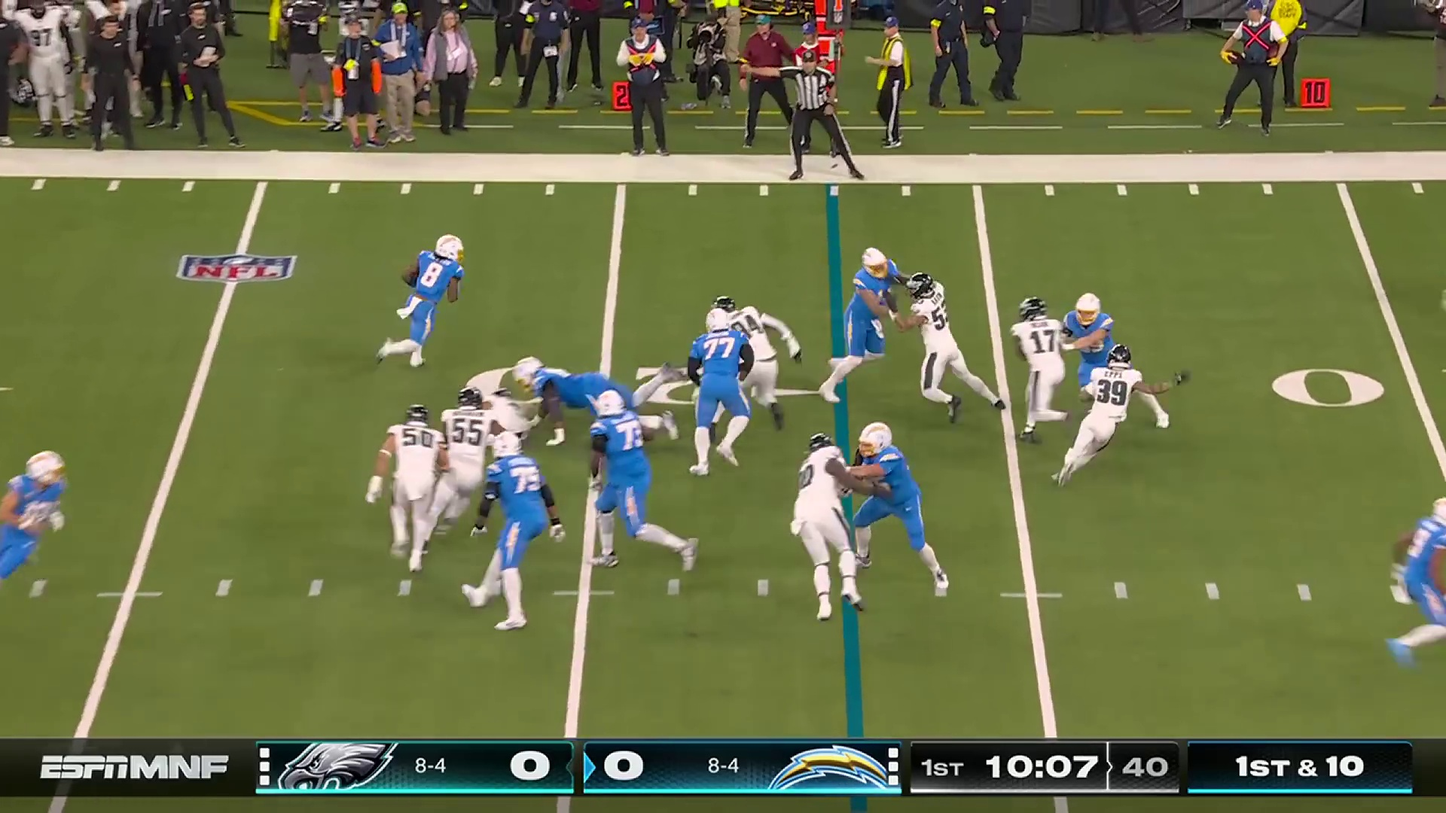player: (564, 387, 703, 580), (846, 415, 959, 602), (514, 357, 680, 453), (1071, 284, 1173, 428), (464, 431, 540, 619), (814, 251, 904, 408), (902, 276, 1000, 416), (0, 423, 75, 602), (377, 230, 474, 366), (1380, 481, 1446, 662), (711, 285, 789, 436), (794, 433, 854, 597), (1063, 345, 1137, 475), (384, 410, 443, 560), (683, 314, 742, 461), (1011, 286, 1060, 450), (446, 379, 478, 551), (478, 394, 525, 444)
